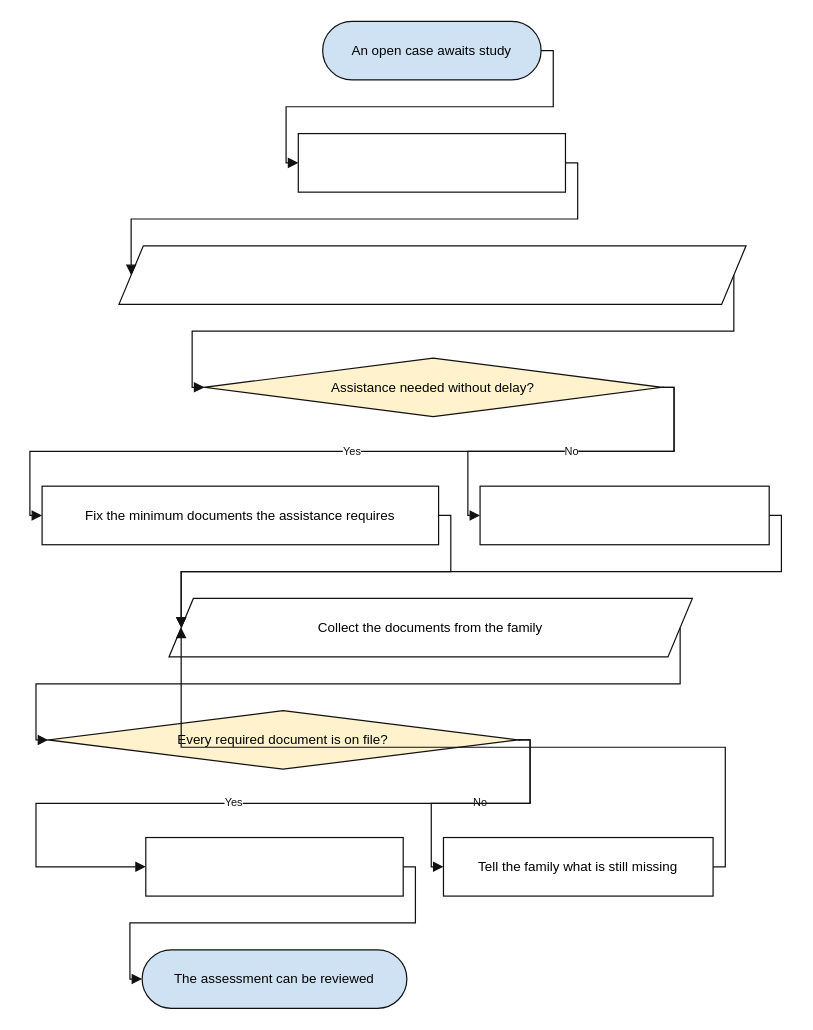
Image size: 813x1030. Some labels were removed from this diagram. Here are the shapes that lost their labels. From the top down, the centre of each, then its label:
At [431,162]: "Study the situation with the family".
At [432,274]: "Record findings, needs and the client category".
At [624,515]: "Fix the usual documents for the case".
At [274,866]: "Seal the assessment as finished".
